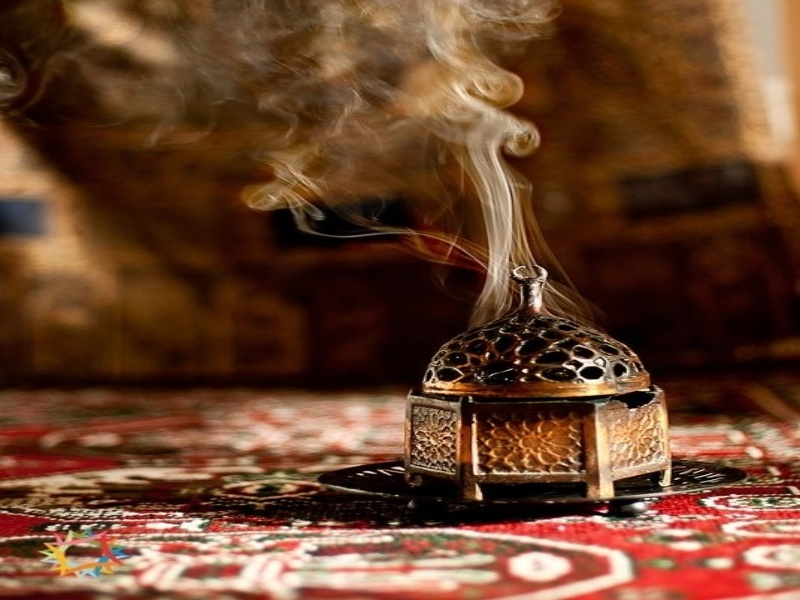smoke: (244, 1, 537, 264)
